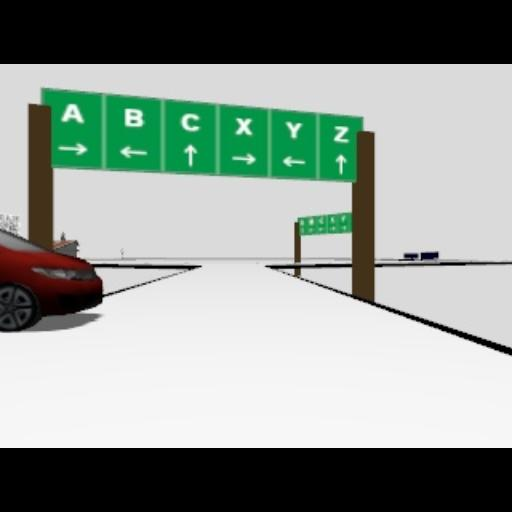A: (60, 103, 86, 125)
B: (124, 108, 144, 126)
C: (180, 112, 200, 132)
Left: (117, 146, 149, 158), (282, 156, 308, 166)
Right: (56, 142, 90, 156), (230, 152, 258, 164)
Straight: (182, 144, 198, 168), (334, 153, 348, 175)
X: (234, 117, 252, 135)
Y: (285, 120, 303, 138)
Z: (333, 125, 349, 143)
